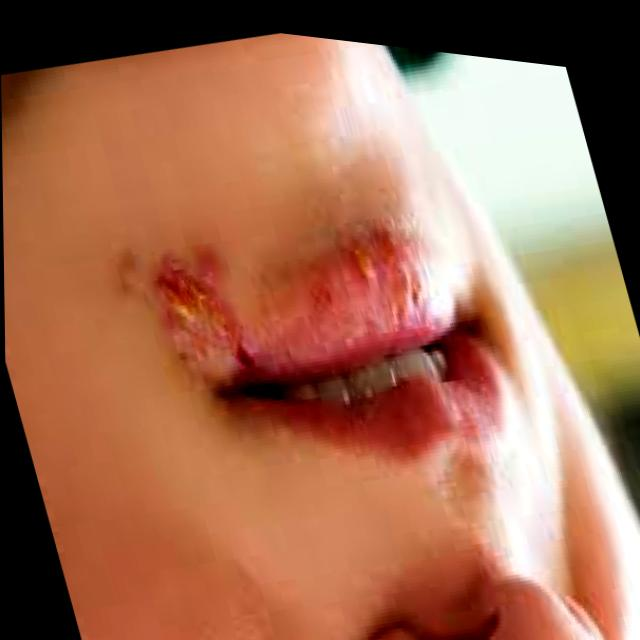ulcer: (151, 248, 243, 355), (341, 226, 401, 300)
